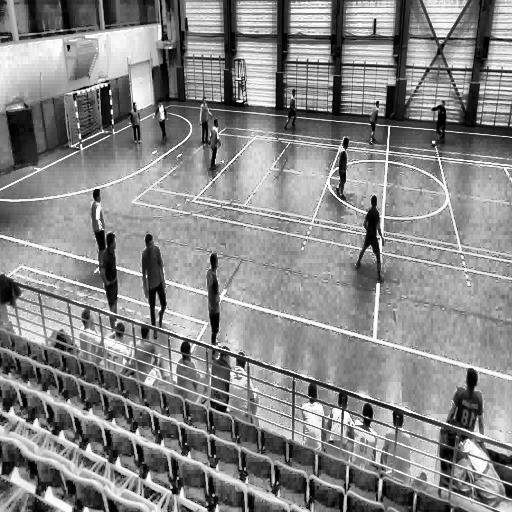ball: (430, 138, 436, 147)
player: (141, 232, 168, 332), (356, 196, 386, 282), (98, 232, 119, 325), (205, 250, 222, 354), (335, 136, 348, 201), (208, 118, 222, 173), (153, 97, 168, 146), (284, 86, 299, 132), (433, 100, 447, 145), (199, 96, 211, 146), (130, 101, 142, 147), (369, 98, 379, 144)
